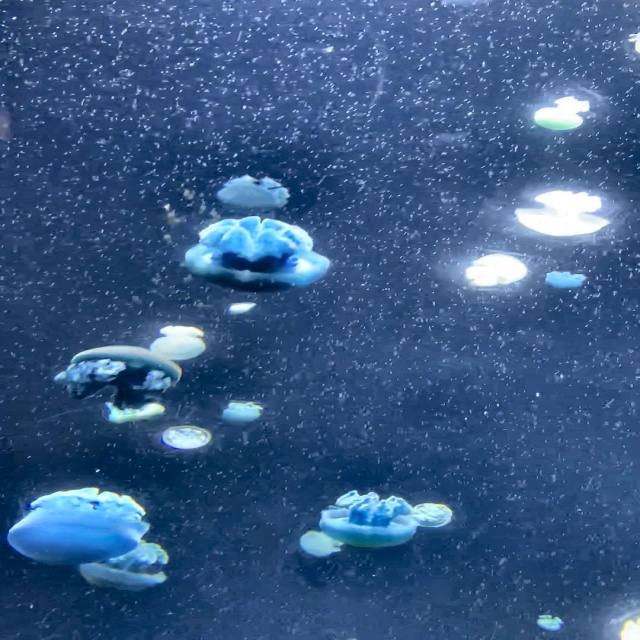jellyfish: (10, 485, 154, 564), (182, 219, 331, 293), (57, 345, 185, 424), (300, 486, 443, 556), (77, 534, 178, 594), (514, 187, 613, 237), (215, 174, 292, 217), (149, 323, 220, 368), (533, 93, 597, 132), (465, 252, 532, 287), (293, 526, 351, 559), (159, 424, 218, 449), (411, 503, 462, 531), (546, 268, 592, 292), (220, 400, 264, 425), (225, 302, 267, 316)
